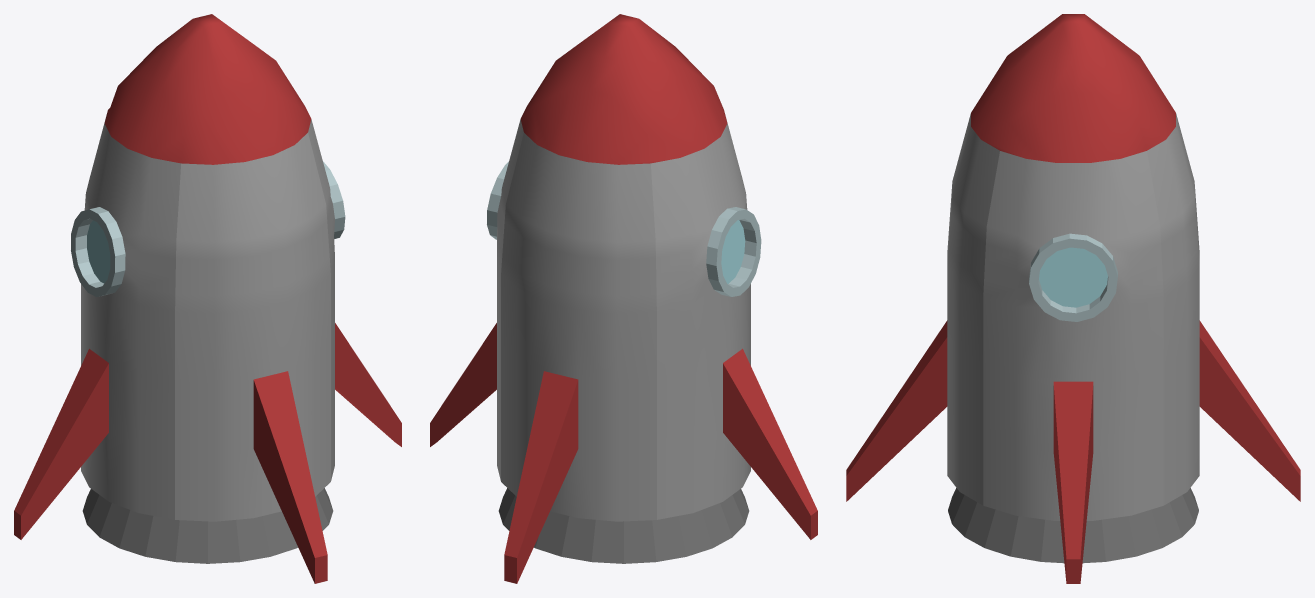
The model's file is SpaceRocketNT.fbx.
3 views of the same model, side by side, from view 1: azimuth 30°, elevation 25°; view 2: azimuth 150°, elevation 25°; view 3: azimuth 270°, elevation 25° (orthographic).
Parts seen in each view (by area): view 1: pCube1; view 2: pCube1; view 3: pCube1.
Boxes of the visible parts, x1,y1,x2,y2 form: pCube1: (14, 14, 401, 583); pCube1: (430, 14, 817, 583); pCube1: (846, 14, 1300, 583).
Size of the model in its own units: 12.98 by 15.99 by 13.39.
